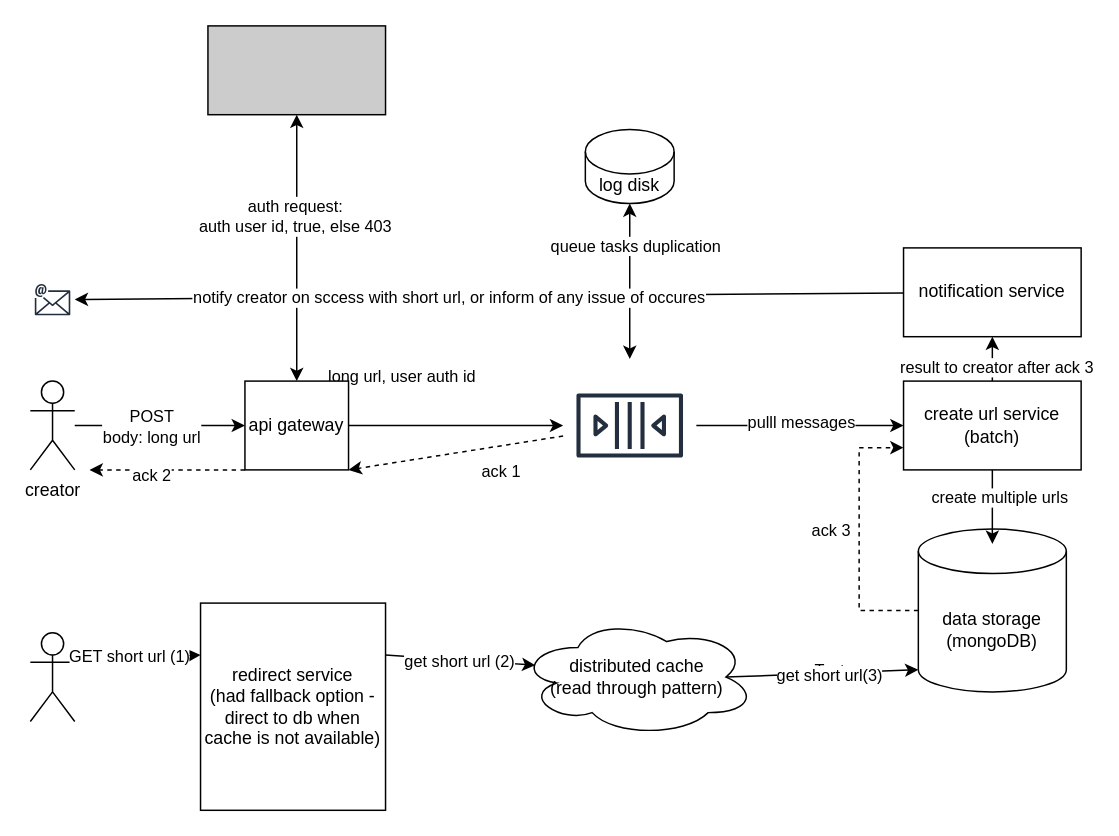
This 1119x836 diagram has some shape labels left out. Each missing label, with the centre of its shape:
"auth service (black box)" goes at [296,69].
"client" goes at [52,676].
"Distributed queue (tasks grouped by auth user id)" goes at [629,424].
"Email" goes at [52,299].
